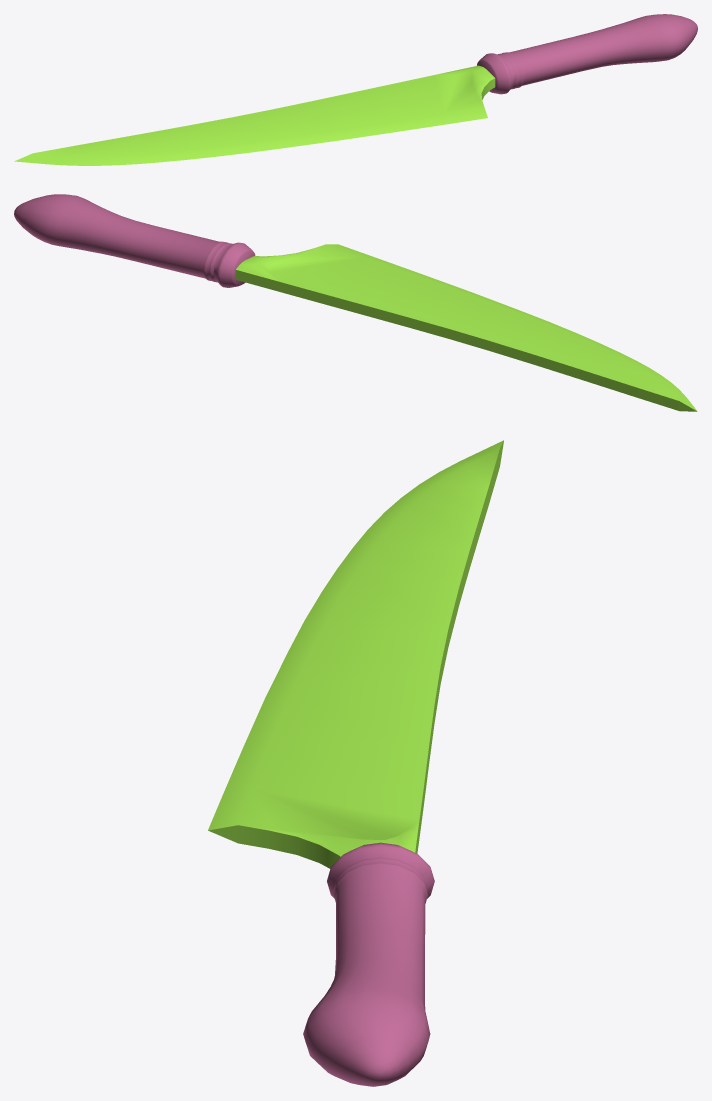
3 renders of one model, top to bottom at view 1: azimuth 30°, elevation 25°; view 2: azimuth 150°, elevation 25°; view 3: azimuth 270°, elevation 25°, orthographic. The views are drawn at different scales.
Parts seen in each view (by area): view 1: VorpalBlade_LP_default_0.002, VorpalBlade_LP_default_0; view 2: VorpalBlade_LP_default_0.002, VorpalBlade_LP_default_0; view 3: VorpalBlade_LP_default_0.002, VorpalBlade_LP_default_0.
Part boxes in pixels (bbox=[...]): VorpalBlade_LP_default_0.002: bbox=[14, 65, 495, 165]; VorpalBlade_LP_default_0: bbox=[477, 14, 697, 94]; VorpalBlade_LP_default_0.002: bbox=[235, 244, 697, 411]; VorpalBlade_LP_default_0: bbox=[14, 194, 255, 287]; VorpalBlade_LP_default_0.002: bbox=[208, 440, 503, 868]; VorpalBlade_LP_default_0: bbox=[303, 842, 434, 1086].
Bounding box in the file's own units: 1 × 0.0581 × 0.1973.
